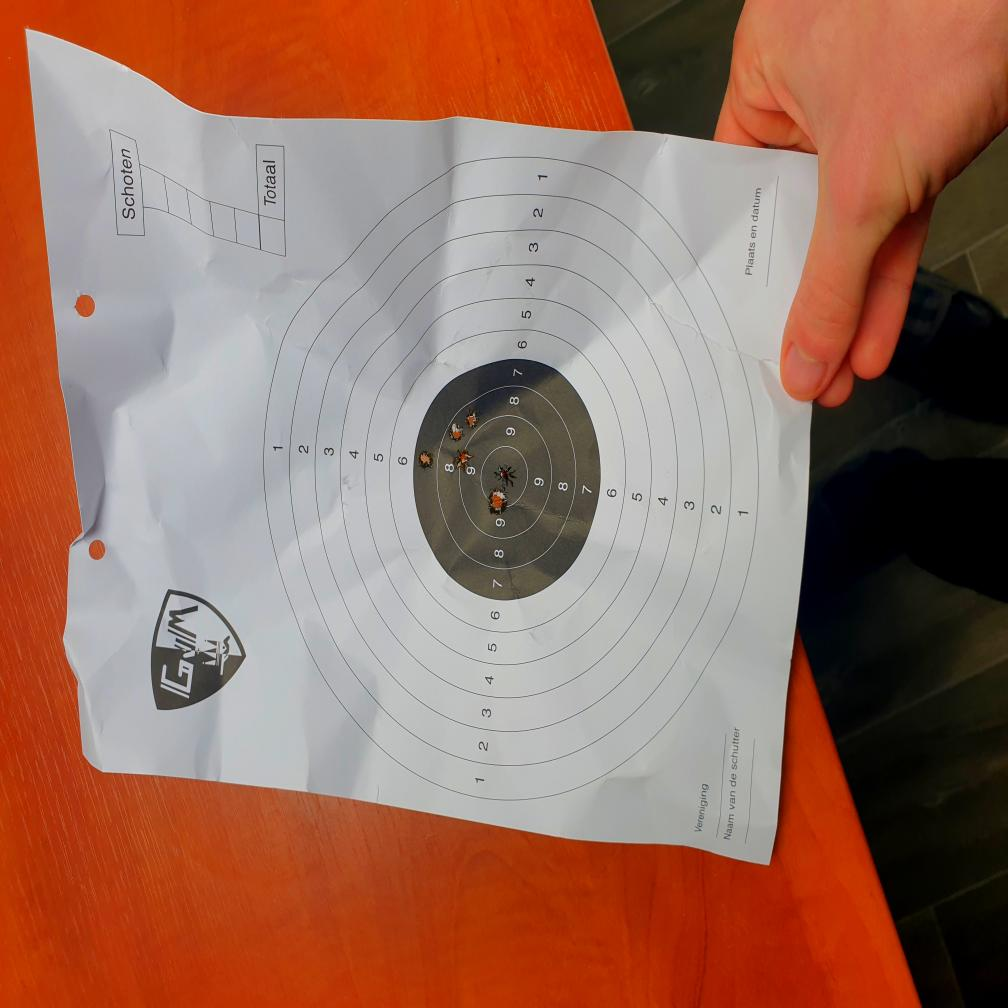10: (487, 487, 508, 516), (494, 464, 516, 490)
7: (417, 450, 433, 470)
8: (465, 407, 480, 429), (448, 422, 464, 442)
9: (453, 449, 475, 474)
Target: (262, 152, 760, 800)
black_contour: (411, 358, 601, 600)
